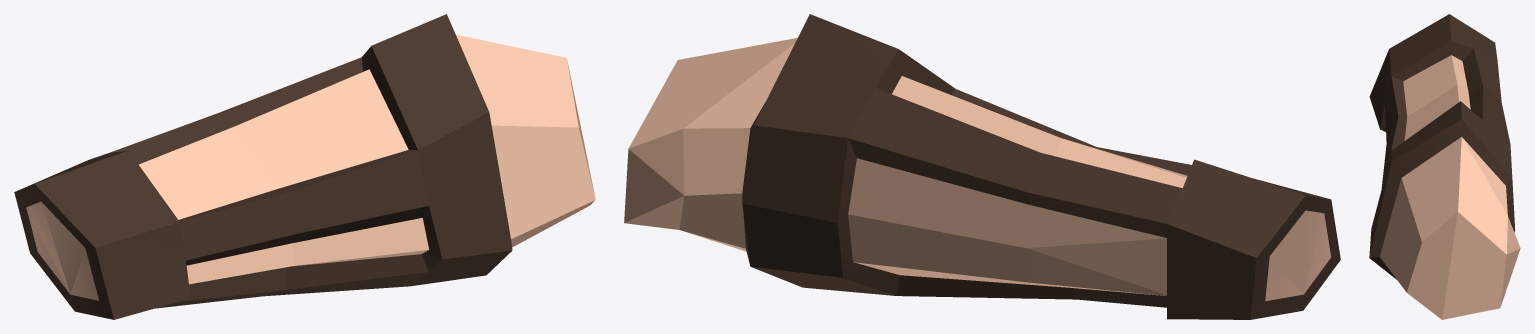
The model's file is Chr_ArmLowerRight_Female_09_Static.fbx.
3 views of the same model, side by side, from view 1: azimuth 30°, elevation 25°; view 2: azimuth 150°, elevation 25°; view 3: azimuth 270°, elevation 25° (orthographic). The views are drawn at different scales.
Parts seen in each view (by area): view 1: Chr_ArmLowerRight_Female_09_Static; view 2: Chr_ArmLowerRight_Female_09_Static; view 3: Chr_ArmLowerRight_Female_09_Static.
Part boxes in pixels (left/top/right/bottom): Chr_ArmLowerRight_Female_09_Static: left=14, top=14, right=595, bottom=319; Chr_ArmLowerRight_Female_09_Static: left=624, top=14, right=1340, bottom=319; Chr_ArmLowerRight_Female_09_Static: left=1369, top=14, right=1520, bottom=319.
Bounding box in the file's own units: 0.292 × 0.128 × 0.0948.
